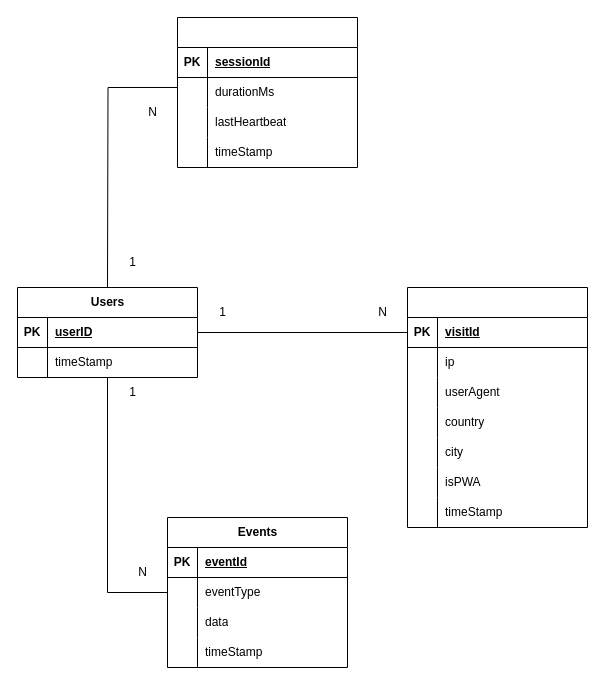
This 605x685 diagram has some shape labels left out. Each missing label, with the box of its shape:
Sessions: (176, 16, 358, 168)
Visits: (406, 286, 588, 528)
